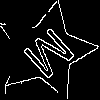M: (21, 26, 84, 88)
